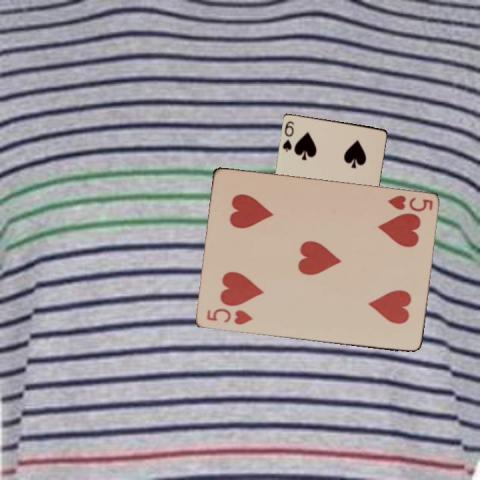5h: (203, 305, 254, 327), (384, 192, 434, 213)
6s: (280, 118, 296, 153)
